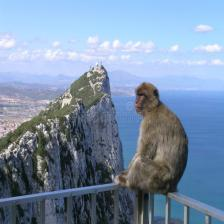monkey: (114, 70, 190, 198)
